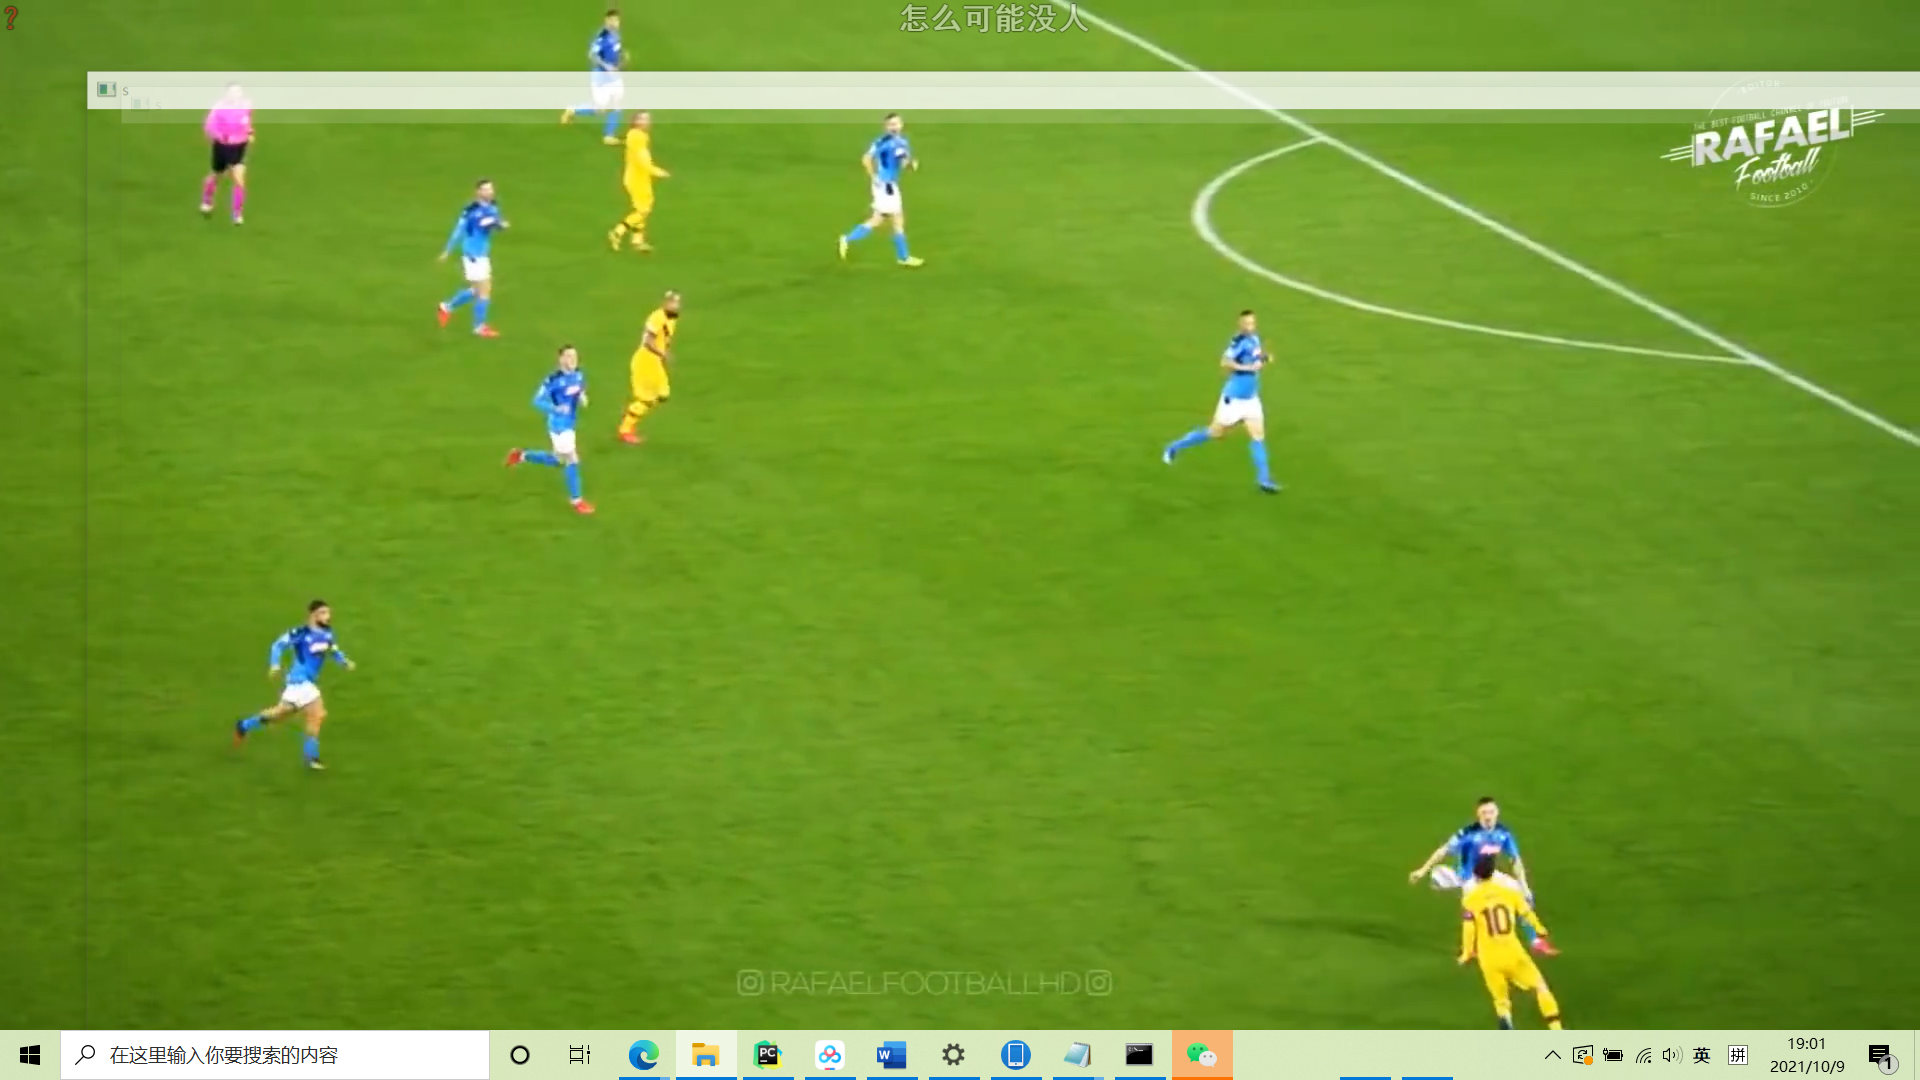ft: (1427, 862, 1461, 893)
